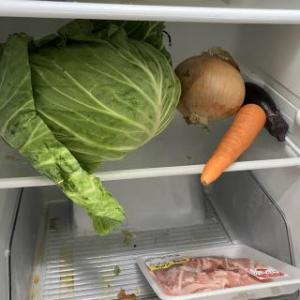cabbage: (0, 20, 183, 238)
carrot: (200, 103, 268, 186)
eggplant: (242, 82, 290, 144)
onion: (170, 44, 248, 128)
